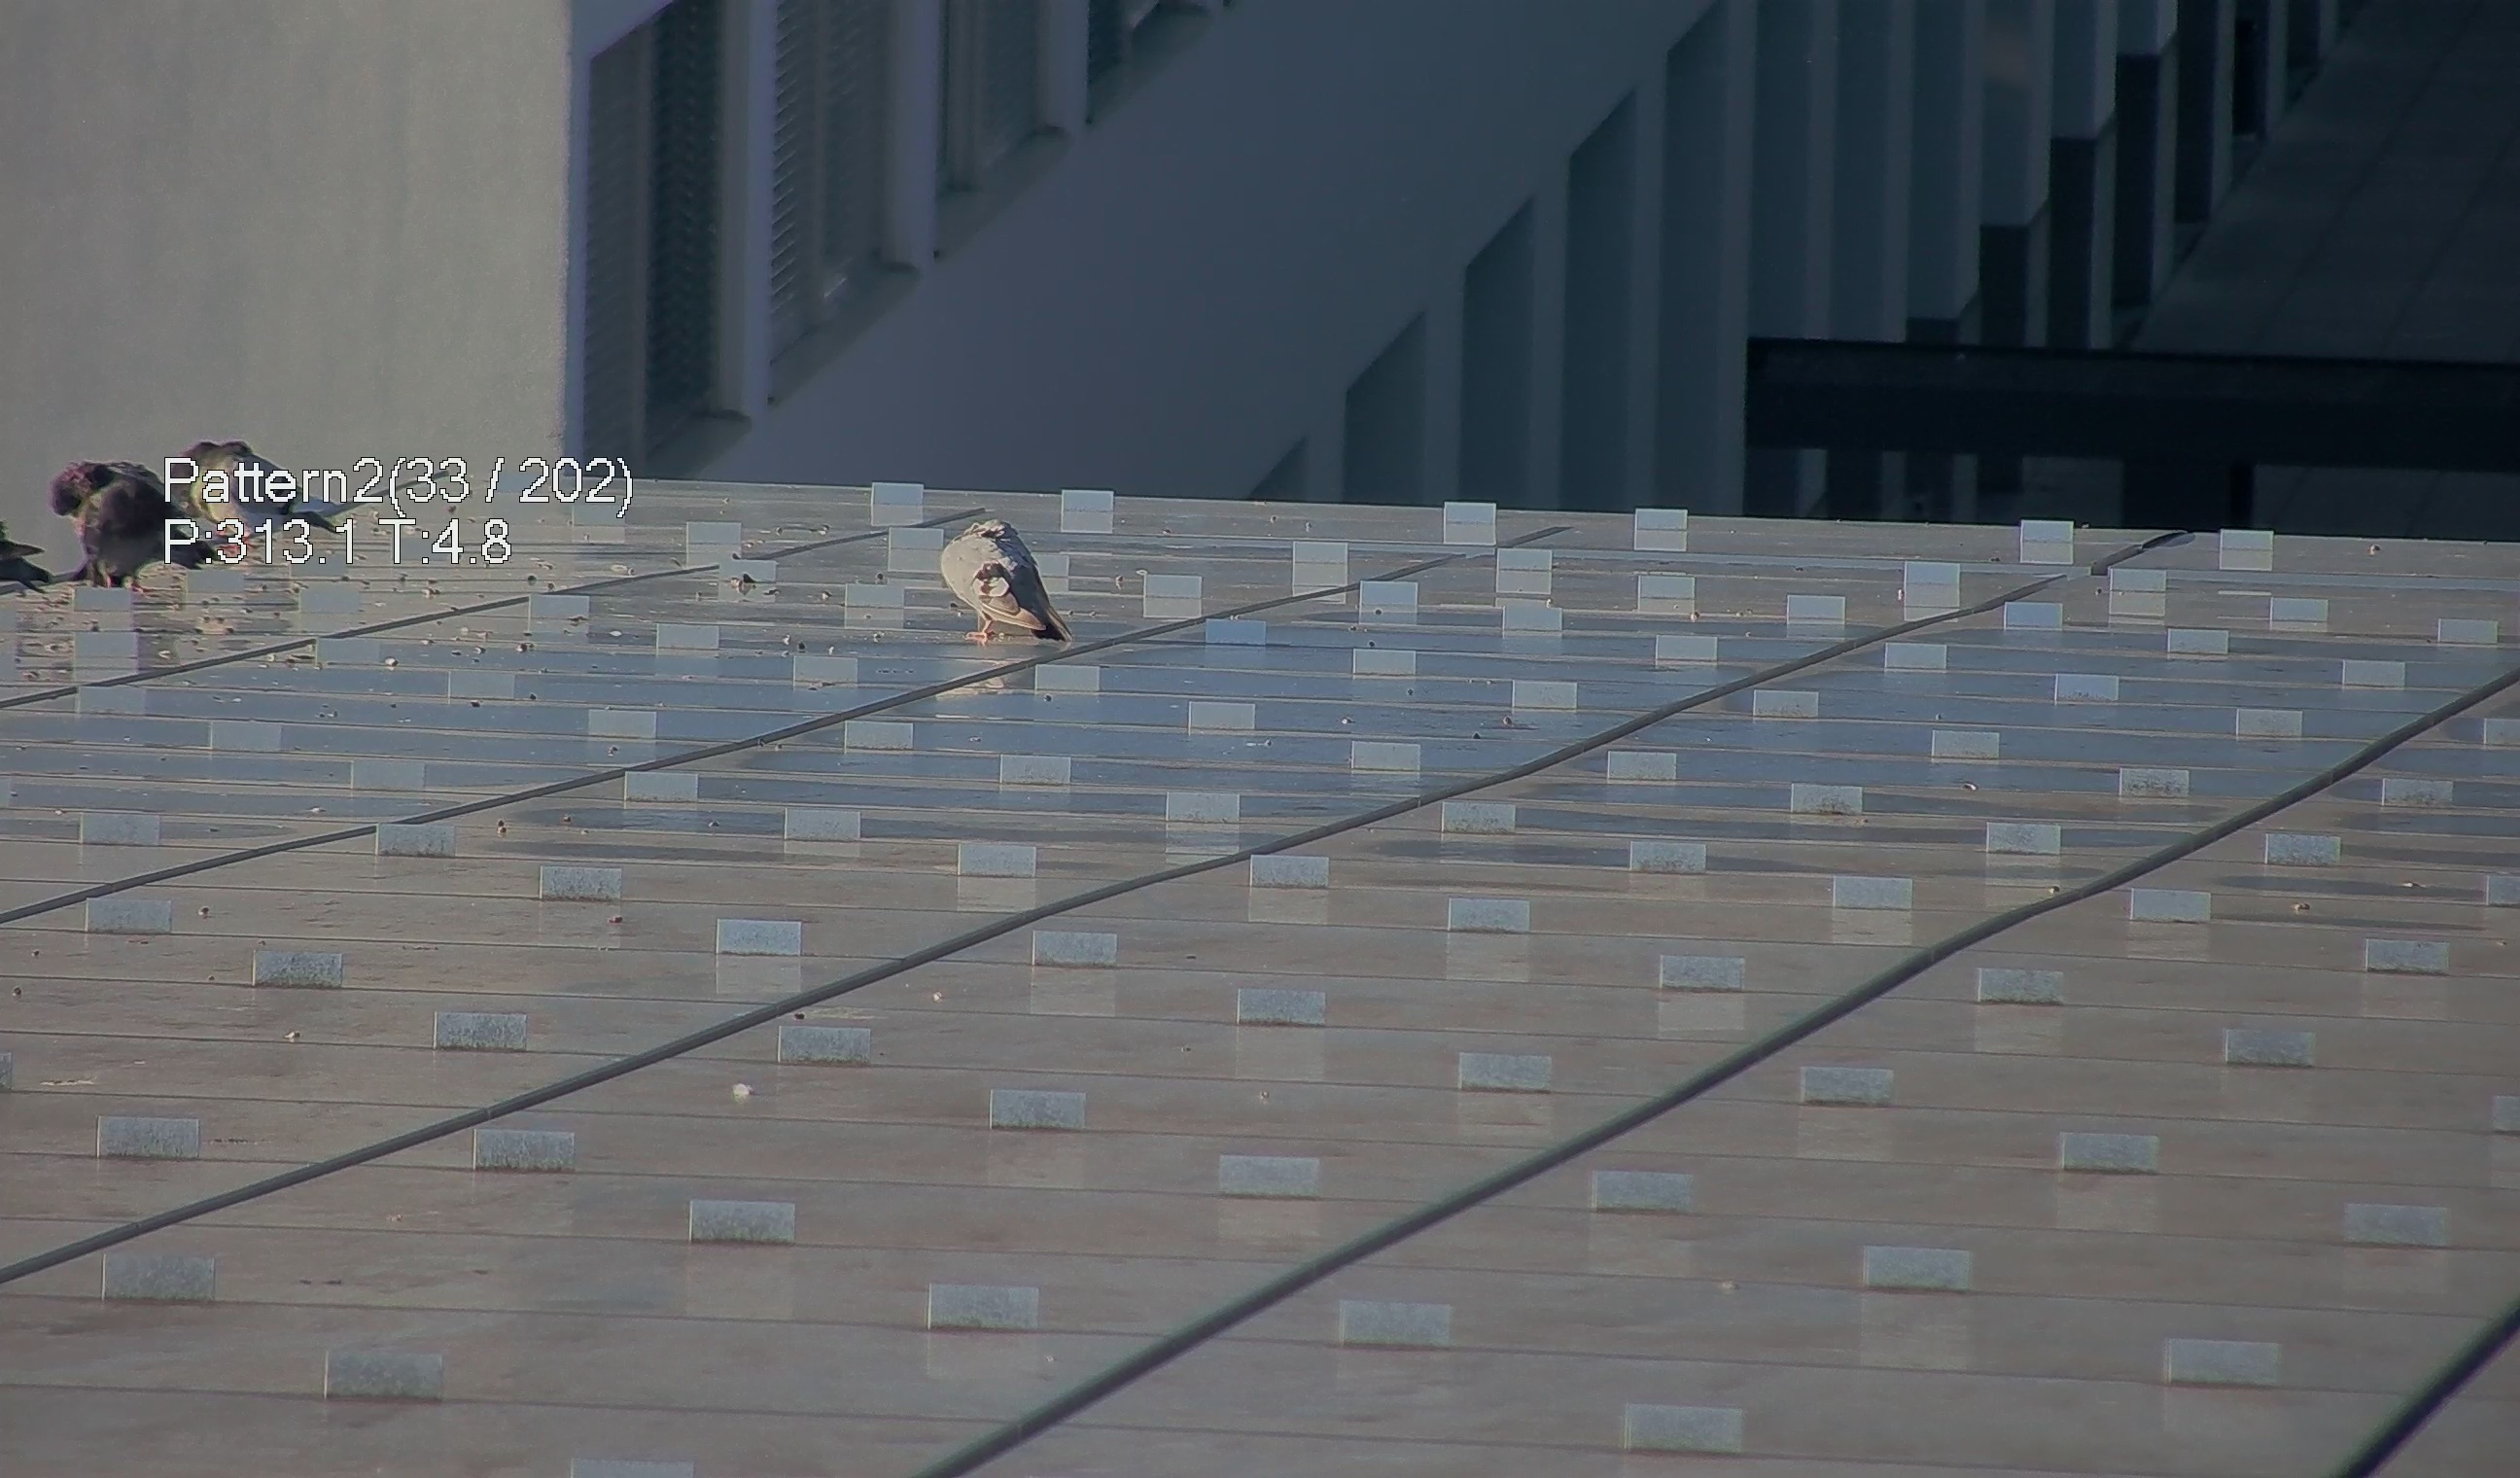Pigeon: (44, 449, 216, 584), (927, 500, 1073, 655)
